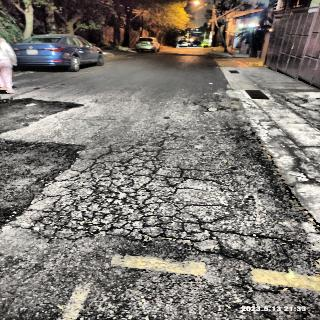alligator-crack: (20, 125, 279, 257), (83, 148, 256, 244)
